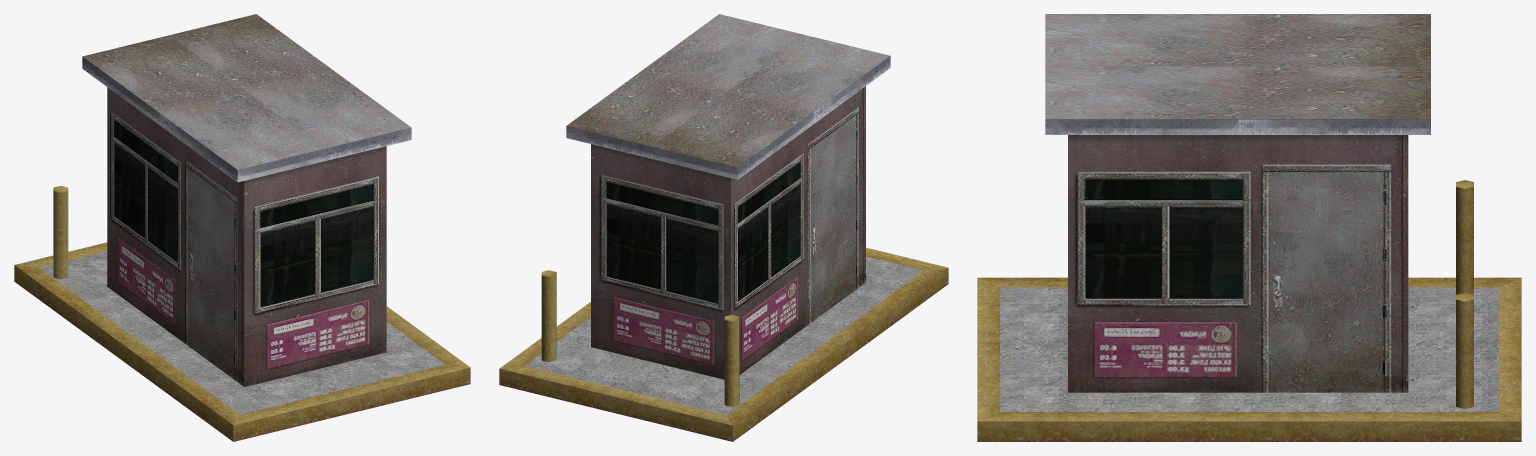
The model's file is parking_booth_dt_02.fbx.
The picture shows the model from 3 angles, left to right: view 1: azimuth 30°, elevation 25°; view 2: azimuth 150°, elevation 25°; view 3: azimuth 270°, elevation 25°; orthographic projection. The views are drawn at different scales.
Visible parts, largest first — view 1: mesh_0, mesh_1, mesh_2; view 2: mesh_0, mesh_1, mesh_2; view 3: mesh_0, mesh_1, mesh_2.
Boxes of the visible parts, <box> form: mesh_0: <box>82,14,411,386</box>; mesh_1: <box>14,186,470,441</box>; mesh_2: <box>39,251,445,414</box>; mesh_0: <box>566,14,890,379</box>; mesh_1: <box>499,247,948,441</box>; mesh_2: <box>524,256,923,415</box>; mesh_0: <box>1045,14,1430,392</box>; mesh_1: <box>977,180,1521,441</box>; mesh_2: <box>1000,287,1498,411</box>.
Bounding box in the file's own units: 300 × 295 × 480.
Materials: 3 (3 with a texture image).
